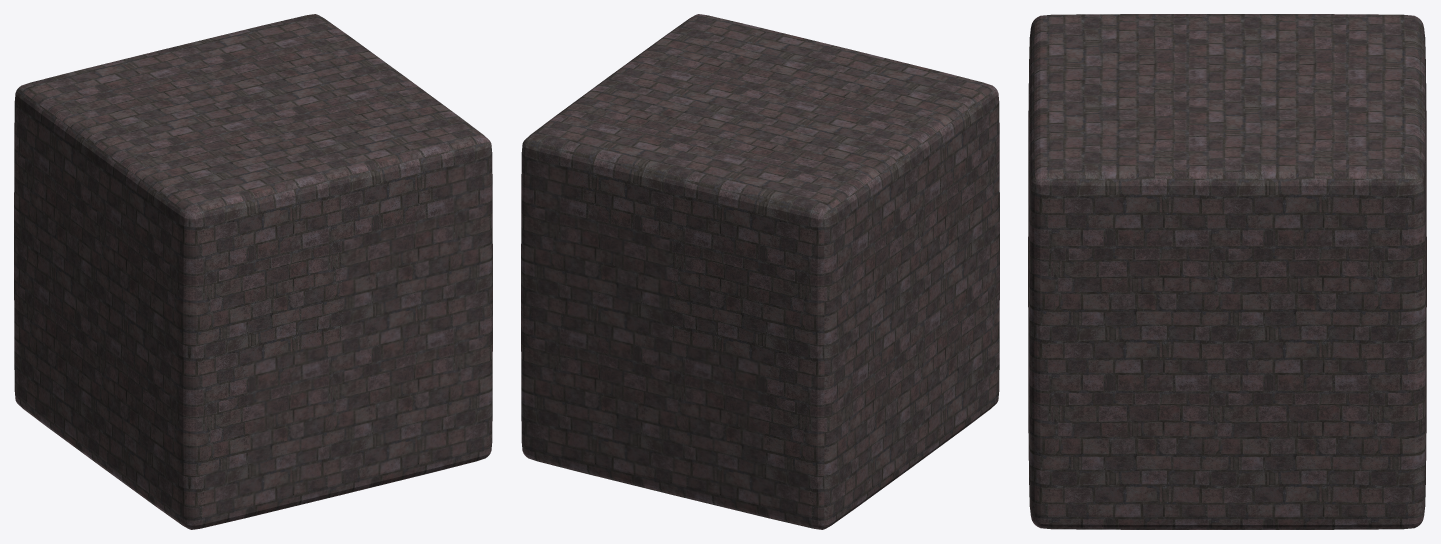
Rendered from brick.glb.
3 views of the same model, side by side, from view 1: azimuth 30°, elevation 25°; view 2: azimuth 150°, elevation 25°; view 3: azimuth 270°, elevation 25° (orthographic). The views are drawn at different scales.
Visible parts, largest first — view 1: Cube; view 2: Cube; view 3: Cube.
Boxes of the visible parts, box(x1,y1,x2,y2) form: Cube: box(14, 14, 492, 529); Cube: box(521, 14, 999, 529); Cube: box(1028, 14, 1426, 529).
Size of the model in its own units: 2 by 2 by 2.
Materials: 1 (1 with a texture image).
